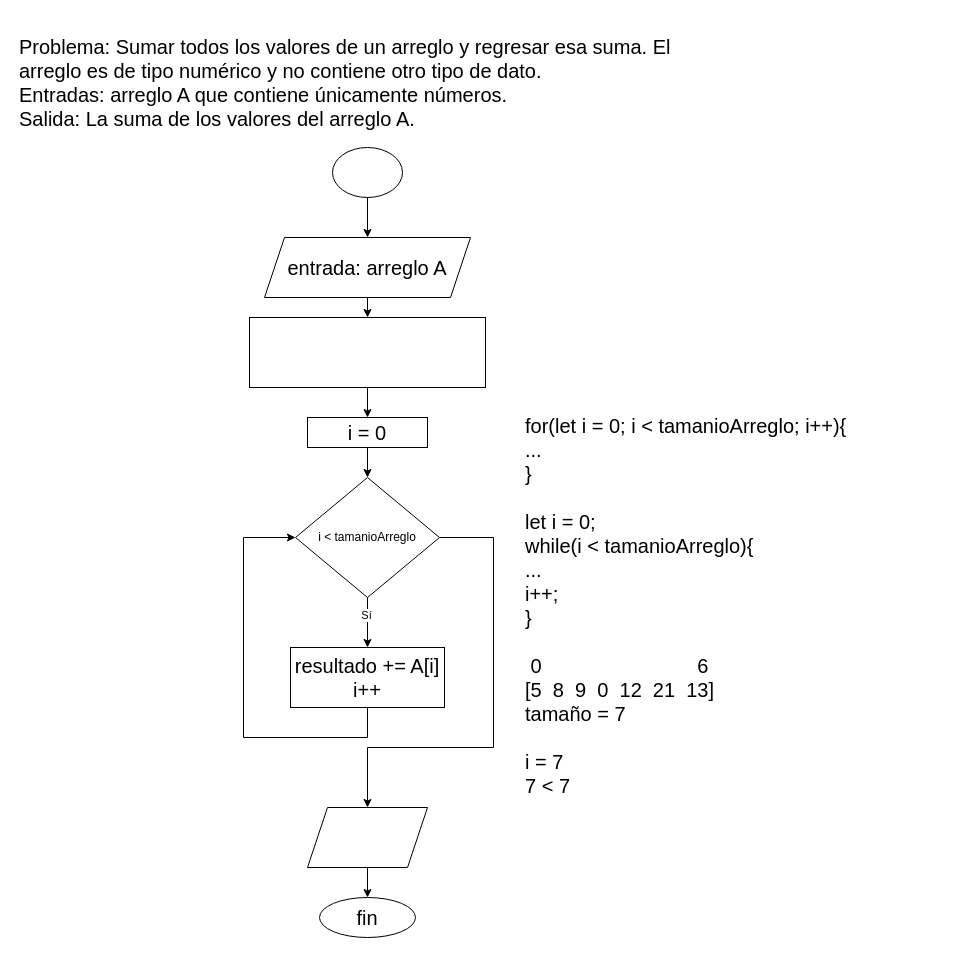
The diagram is 980 pixels wide and 955 high, and some of its shapes have lost their labels. The shapes that lost their labels are listed below. From the top down, each one's centre as x and y in pixels, then its label:
At (x=367, y=172): "Inicio".
At (x=367, y=352): "resultado = 0 tamanioArreglo = A.length".
At (x=367, y=837): "salida: resultado".
